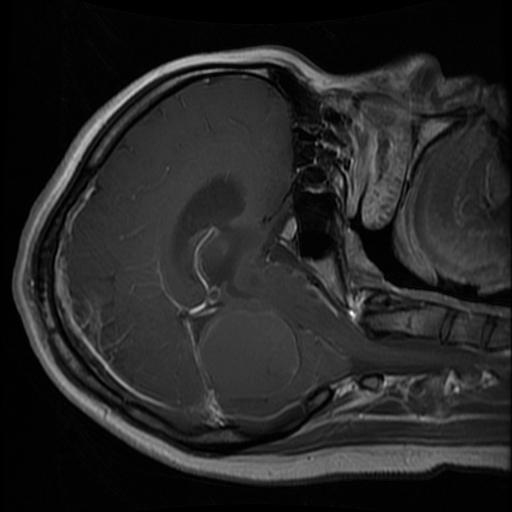glioma: (201, 307, 303, 399)
